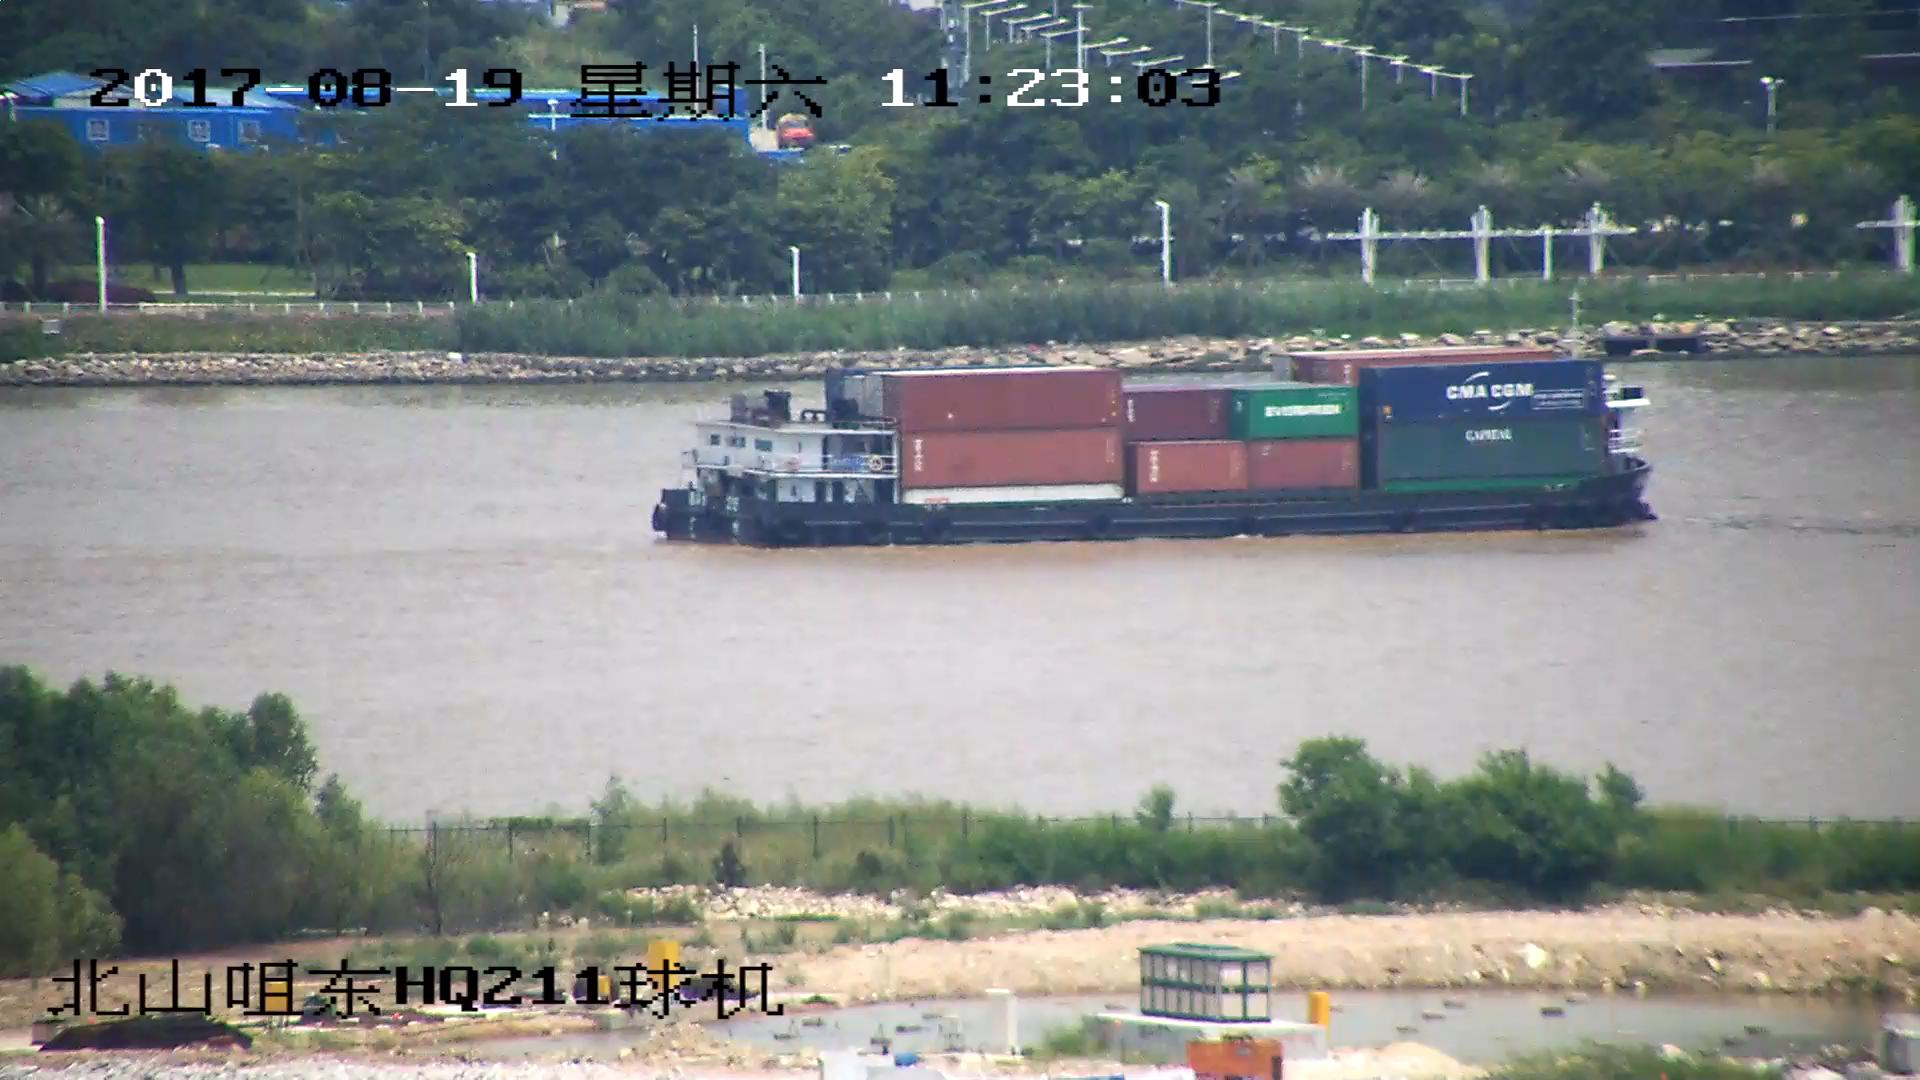container ship: (653, 354, 1661, 542)
